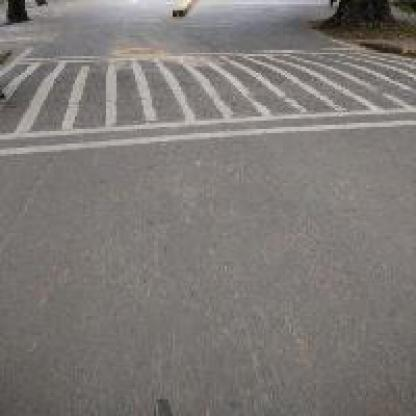Speed Bump: (0, 42, 414, 160)
